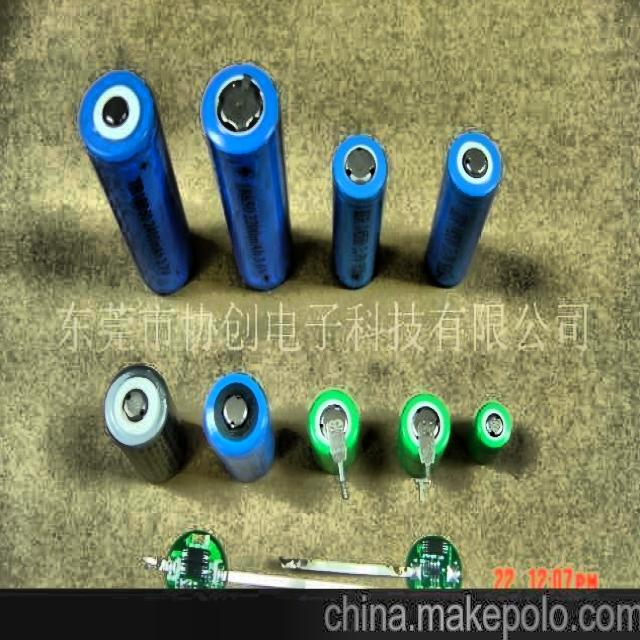Non-Valuable Waste - Batteries: (79, 72, 194, 293), (203, 64, 291, 289), (426, 131, 502, 287), (105, 366, 185, 482), (333, 135, 388, 287), (203, 374, 275, 482), (396, 395, 451, 498), (308, 390, 360, 498), (467, 401, 512, 464)
